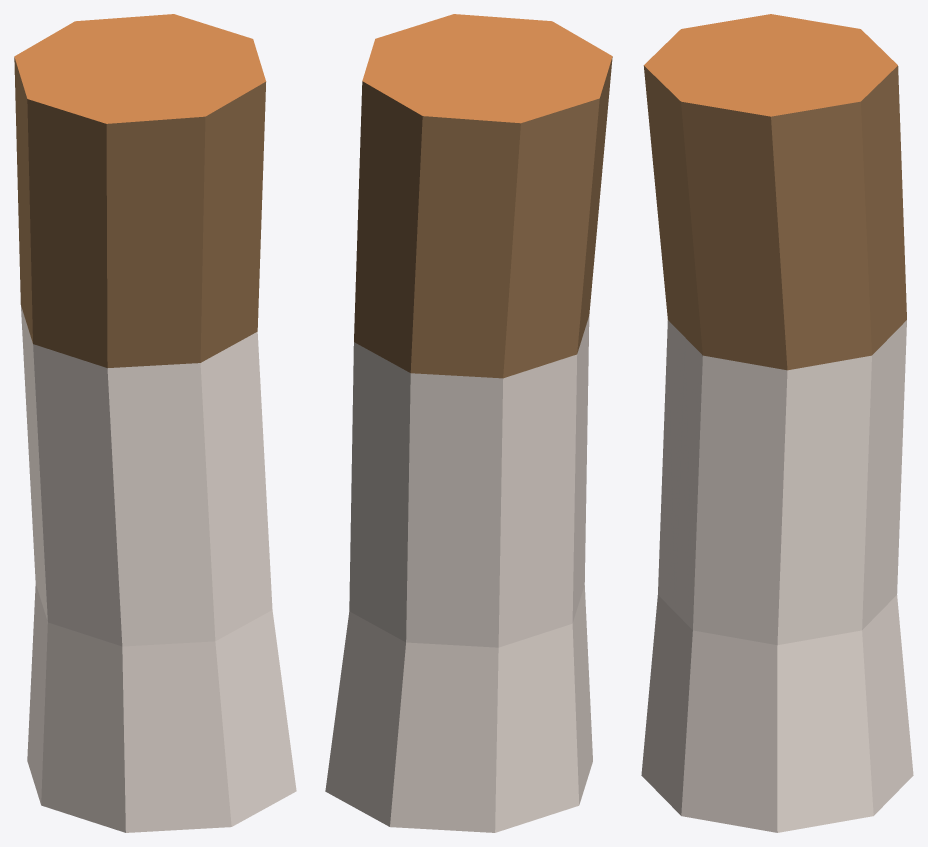
File: cigarette2.fbx
The picture shows the model from 3 angles, left to right: view 1: azimuth 30°, elevation 25°; view 2: azimuth 150°, elevation 25°; view 3: azimuth 270°, elevation 25°; orthographic projection. The views are drawn at different scales.
Visible parts, largest first — view 1: Cylinder.005; view 2: Cylinder.005; view 3: Cylinder.005.
Boxes of the visible parts, box(x1,y1,x2,y2) form: Cylinder.005: box(14, 14, 296, 832); Cylinder.005: box(325, 14, 612, 832); Cylinder.005: box(641, 14, 913, 832).
Size of the model in its own units: 155 by 426 by 145.
